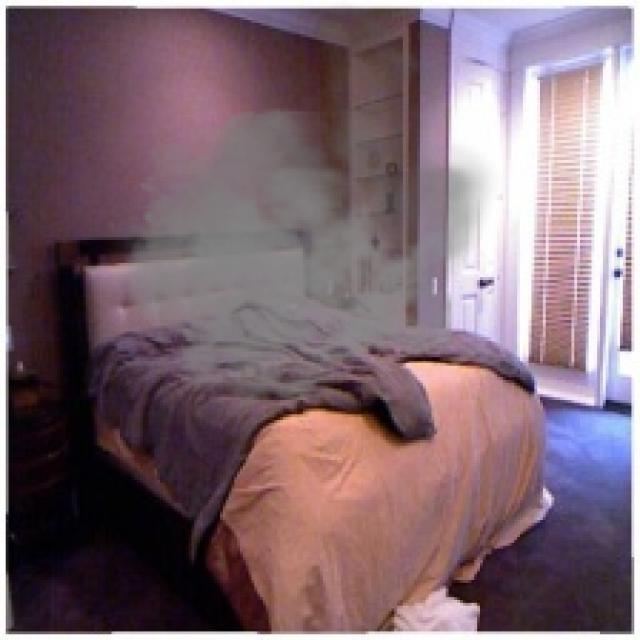smoke: (97, 0, 501, 415)
